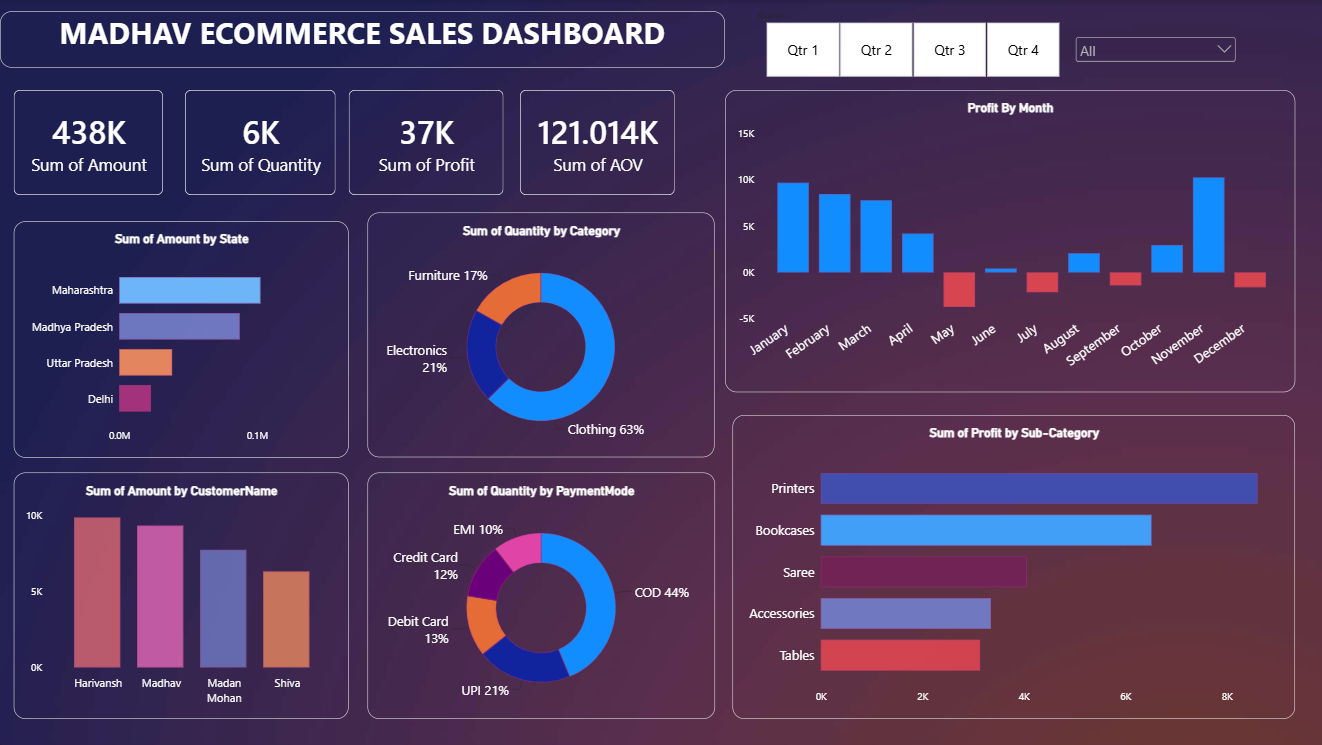

The dashboard page shown, as its layout file describes it:
{"tool":"powerbi","page":{"name":"Page 1","canvas":[1920,1080],"ordinal":0},"visuals":[{"type":"textbox","box":[0,16.3,1049.6,81.4],"z":0},{"type":"columnChart","title":"Profit By Month","fields":{"Category":["Orders.Order Date.Variation.Date Hierarchy.Month"],"Y":["Sum(Details.Profit)"]},"box":[1049.6,130.3,825.2,437.9],"z":1000},{"type":"barChart","fields":{"Category":["Details.Sub-Category"],"Y":["Sum(Details.Profit)"]},"box":[1060.5,600.8,814.3,439.7],"z":2000},{"type":"donutChart","fields":{"Category":["Details.Category"],"Y":["Sum(Details.Quantity)"]},"box":[532,307.6,502.2,354],"z":3000},{"type":"donutChart","fields":{"Category":["Details.PaymentMode"],"Y":["Sum(Details.Quantity)"]},"box":[532,684.1,503.1,356.5],"z":4000},{"type":"cardVisual","fields":{"Data":["Sum(Details.Profit)"]},"box":[504.3,129.7,224.4,152.3],"z":5000},{"type":"cardVisual","fields":{"Data":["Sum(Details.Amount)"]},"box":[20.6,129.7,216.1,152.3],"z":6000},{"type":"cardVisual","fields":{"Data":["Sum(Details.Quantity)"]},"box":[267.6,129.7,218.2,152.3],"z":7000},{"type":"cardVisual","fields":{"Data":["Sum(Details.AOV)"]},"box":[753.3,129.7,224.4,152.3],"z":8000},{"type":"barChart","fields":{"Category":["Orders.State"],"Y":["Sum(Details.Amount)"]},"box":[19.9,320.3,485,342],"z":9000},{"type":"columnChart","fields":{"Category":["Orders.CustomerName"],"Y":["Sum(Details.Amount)"]},"box":[20,684,485,357],"z":9001},{"type":"slicer","fields":{"Values":["Orders.Order Date.Variation.Date Hierarchy.Quarter"]},"box":[1088.9,16.5,463.1,96.7],"z":9002},{"type":"slicer","fields":{"Values":["Orders.State"]},"box":[1552.7,48.9,240.7,95.9],"z":9003}]}

Visuals, with their boxes in screenshot pixels (x1, y1, x2, y2), scaled from the page's 1920x1080 canvas onto the 1322x745 screenshot:
textbox: (0,11,723,67)
"Profit By Month" columnChart: (723,90,1291,392)
barChart - Details.Sub-Category x Sum(Details.Profit): (730,414,1291,718)
donutChart - Details.Category x Sum(Details.Quantity): (366,212,712,456)
donutChart - Details.PaymentMode x Sum(Details.Quantity): (366,472,713,718)
cardVisual - Sum(Details.Profit): (347,89,502,195)
cardVisual - Sum(Details.Amount): (14,89,163,195)
cardVisual - Sum(Details.Quantity): (184,89,334,195)
cardVisual - Sum(Details.AOV): (519,89,673,195)
barChart - Orders.State x Sum(Details.Amount): (14,221,348,457)
columnChart - Orders.CustomerName x Sum(Details.Amount): (14,472,348,718)
slicer - Orders.Order Date.Variation.Date Hierarchy.Quarter: (750,11,1069,78)
slicer - Orders.State: (1069,34,1235,100)
